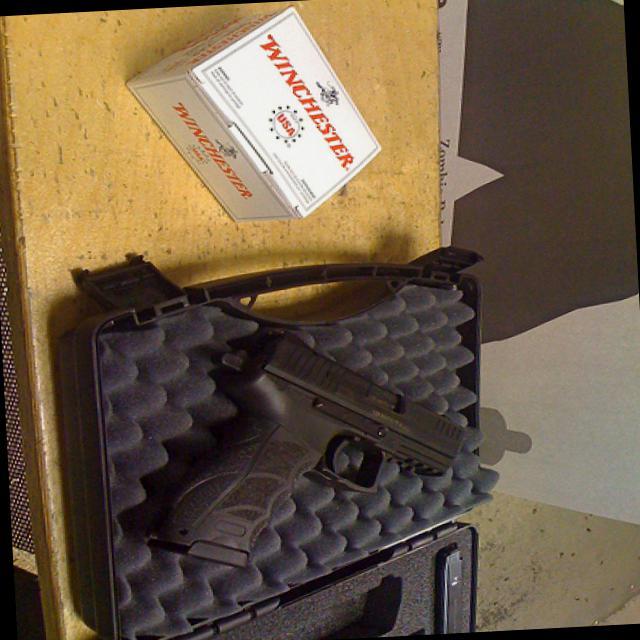handgun: (134, 321, 470, 574)
